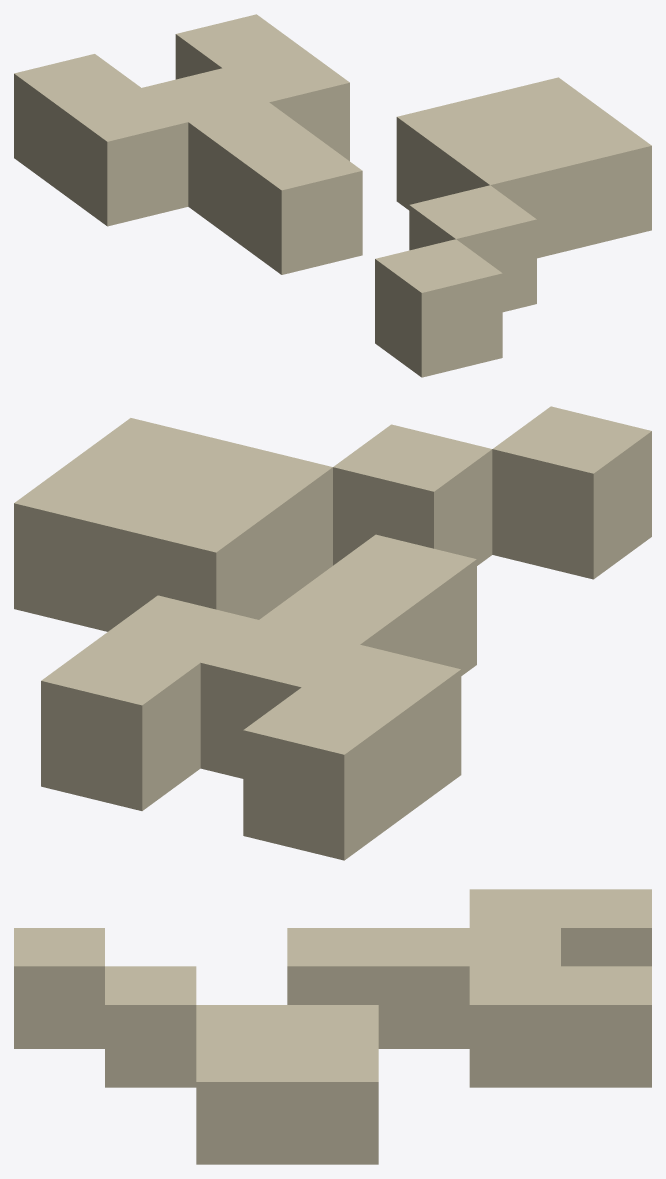
Rendered from Playground_Sand_Tools.glb.
3 renders of one model, top to bottom at view 1: azimuth 30°, elevation 25°; view 2: azimuth 150°, elevation 25°; view 3: azimuth 270°, elevation 25°, orthographic. The views are drawn at different scales.
Parts seen in each view (by area): view 1: Playground_Sand_Tools; view 2: Playground_Sand_Tools; view 3: Playground_Sand_Tools.
Part boxes in pixels (x1,y1,x2,y2): Playground_Sand_Tools: (14, 14, 651, 377); Playground_Sand_Tools: (14, 406, 651, 860); Playground_Sand_Tools: (14, 889, 651, 1164).
Bounding box in the file's own units: 0.5 × 0.1 × 0.7.
1 material, 1 textured.
